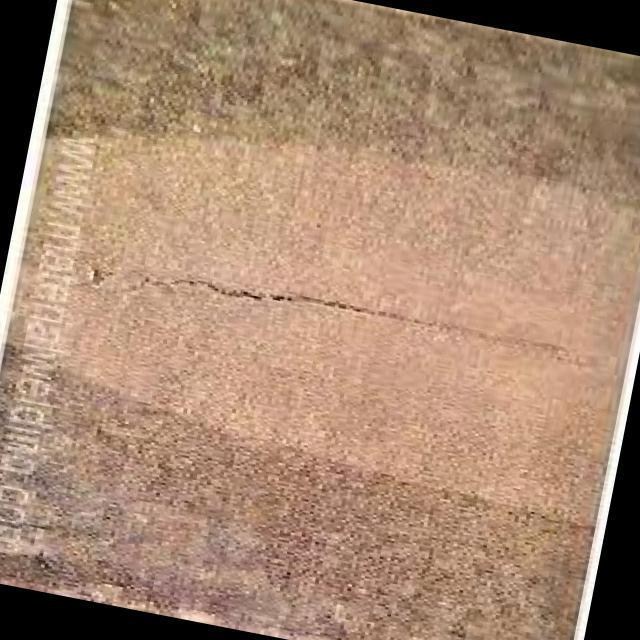defect: (111, 273, 578, 356)
